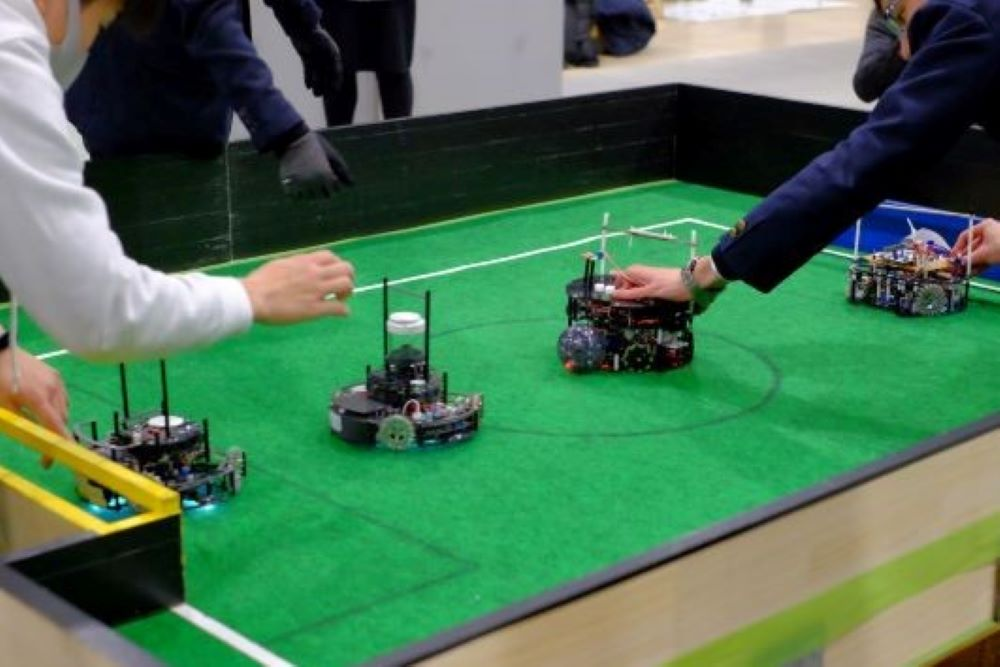Robot: (320, 274, 489, 461), (70, 364, 256, 509), (561, 210, 697, 379), (841, 197, 980, 323)
